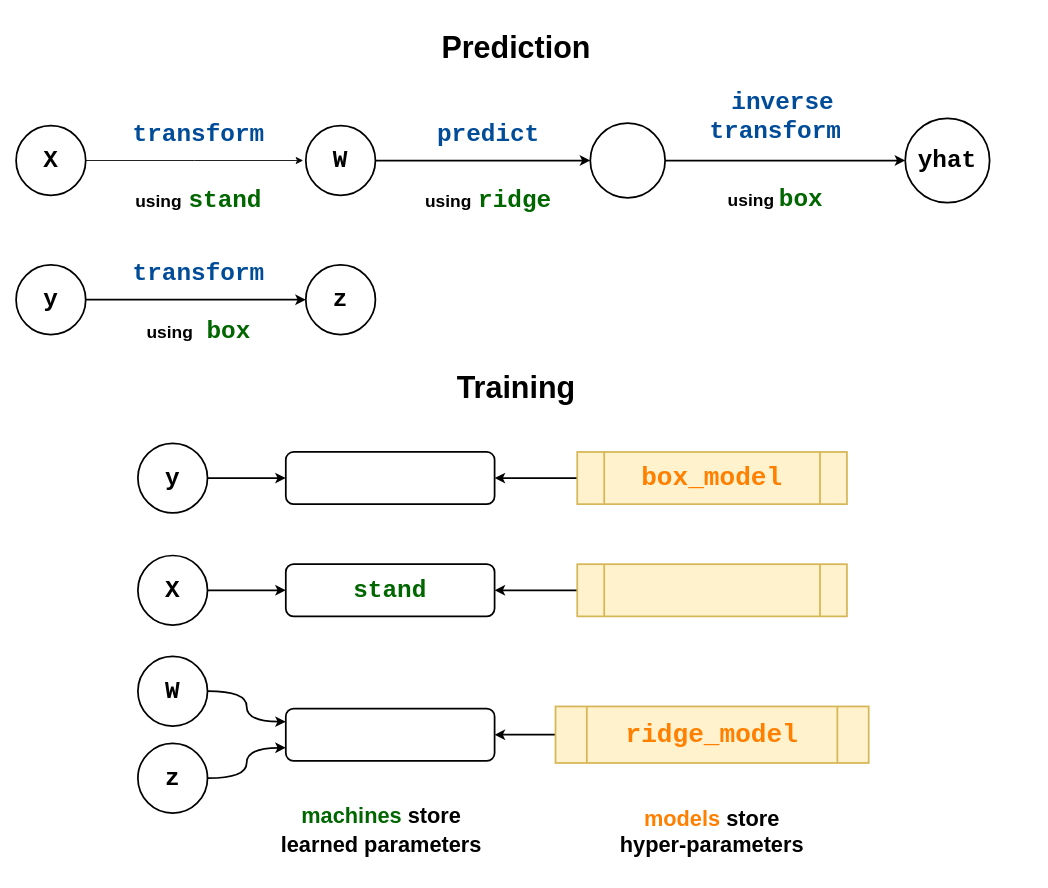
The diagram is 1048 pixels wide and 888 high, and some of its shapes have lost their labels. Each missing label, with the box of its shape:
box: (284, 451, 495, 505)
ridge: (284, 707, 495, 761)
stand_model: (576, 563, 847, 617)
zhat: (589, 122, 666, 198)
